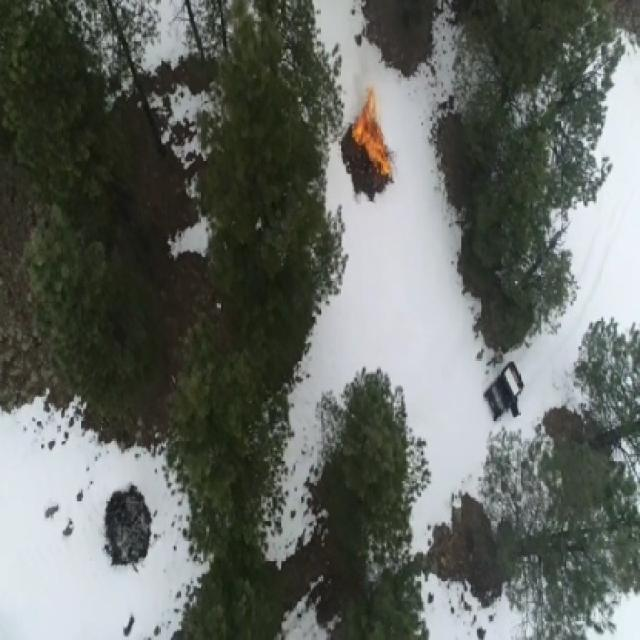Fire: (350, 84, 392, 178)
